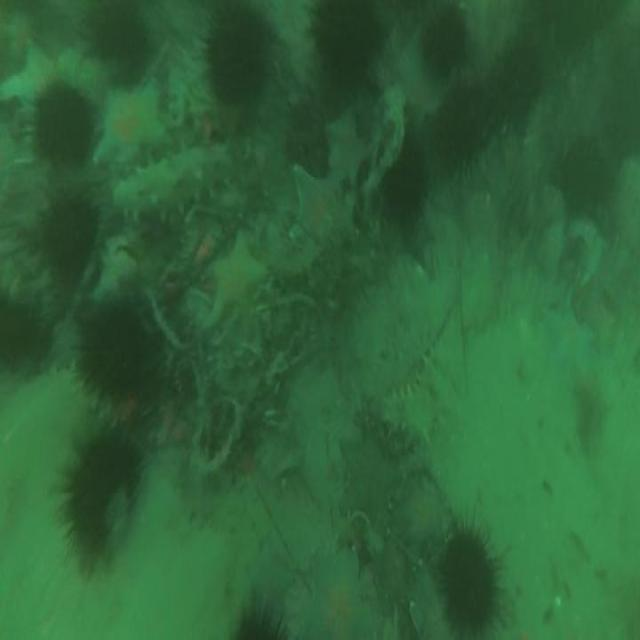echinus: (65, 433, 137, 558), (443, 531, 497, 638), (84, 305, 143, 400), (209, 8, 268, 99), (317, 1, 385, 64), (436, 92, 487, 174), (36, 89, 90, 160), (382, 144, 428, 224), (2, 302, 50, 378), (44, 199, 95, 267), (90, 6, 146, 58), (426, 11, 469, 71)
holothurian: (391, 308, 468, 439), (114, 148, 230, 215)
starfish: (298, 554, 378, 640), (97, 87, 164, 163), (208, 235, 266, 322), (290, 164, 349, 248), (548, 308, 594, 368), (326, 112, 366, 172)
